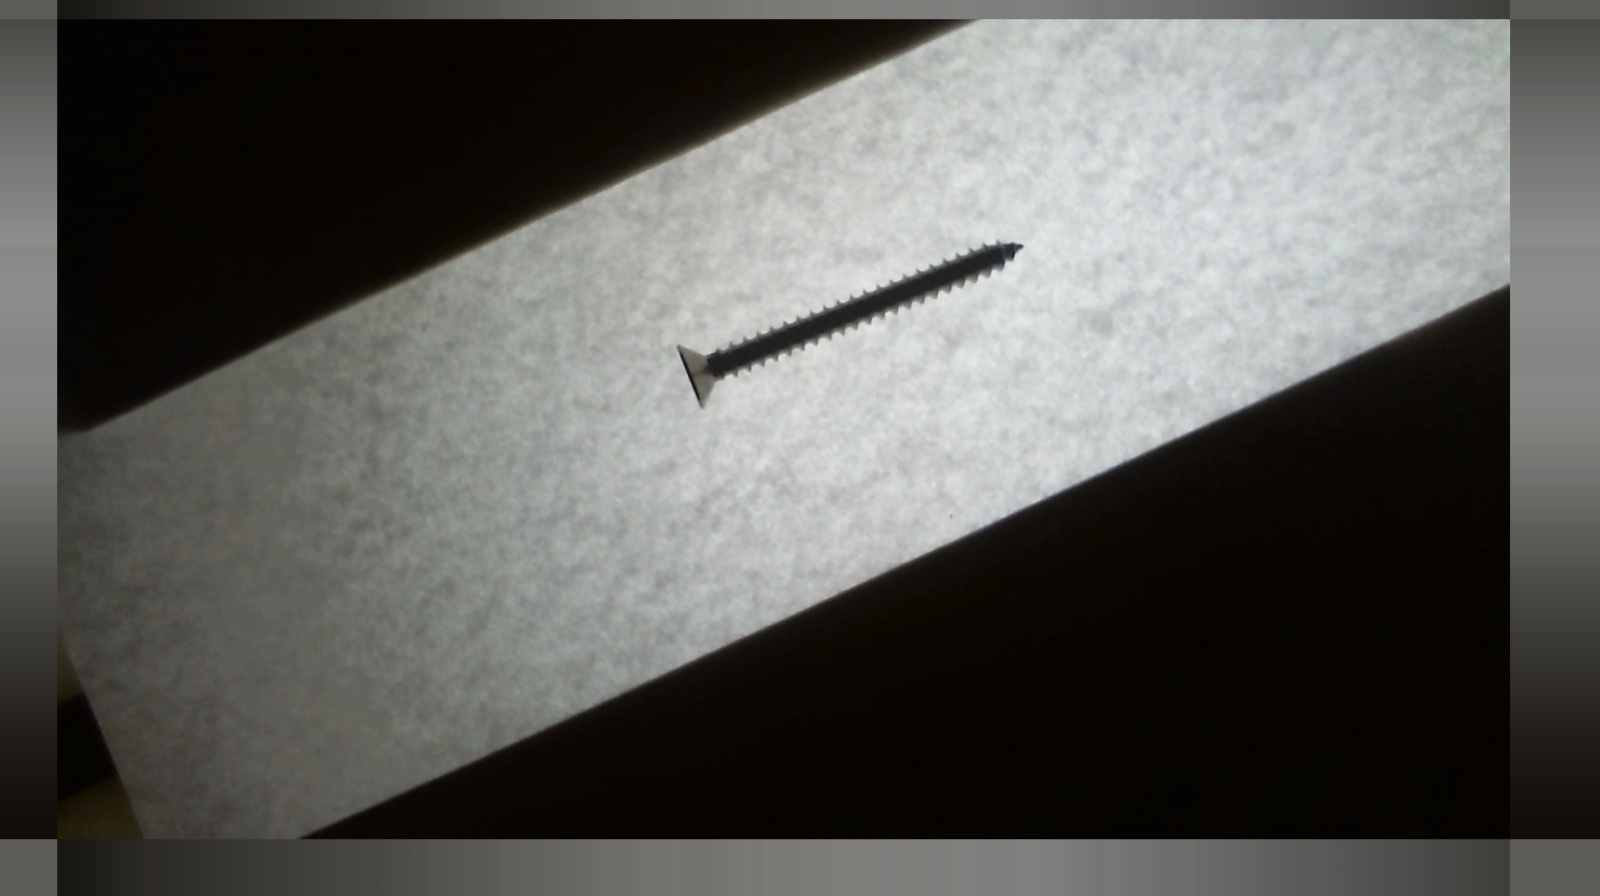S002: (663, 224, 1024, 411)
